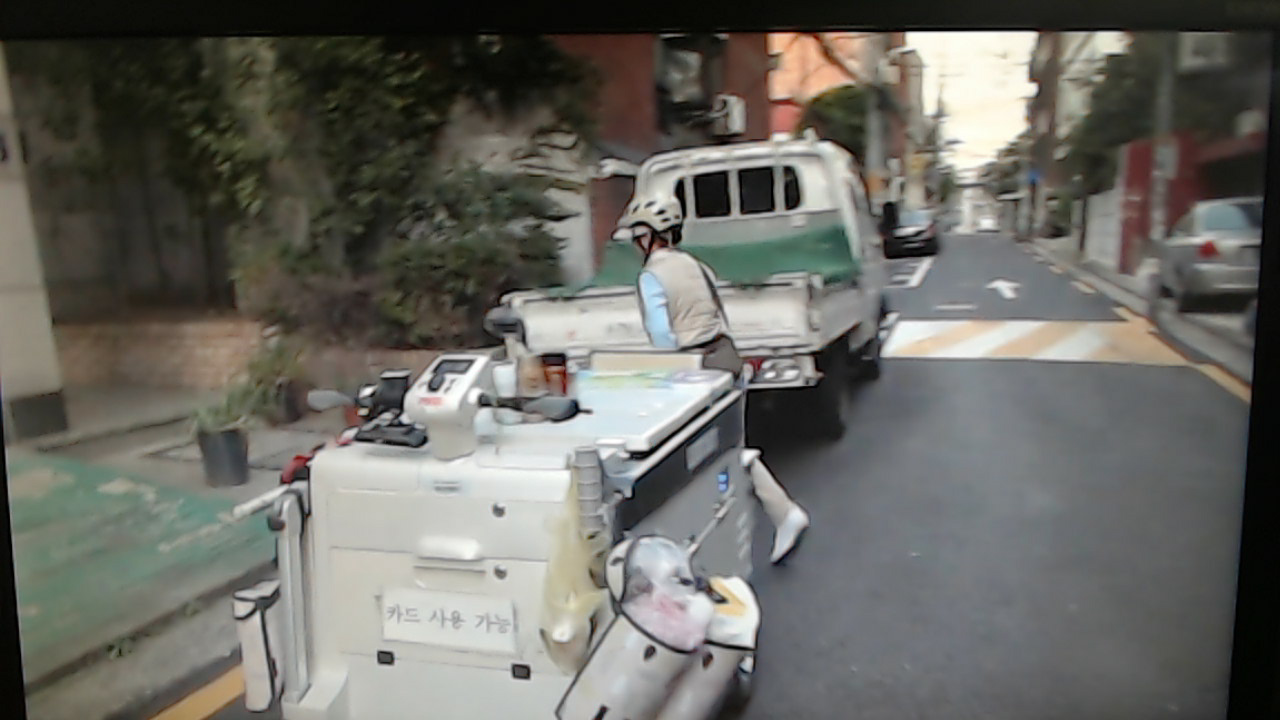Yakurut: (612, 180, 825, 579)
